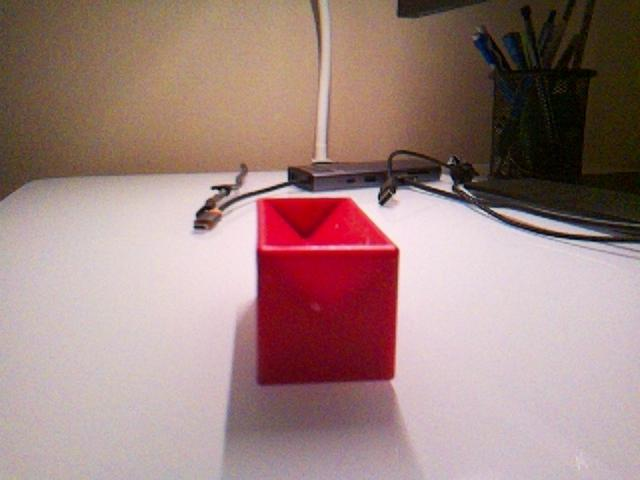red: (255, 196, 400, 386)
